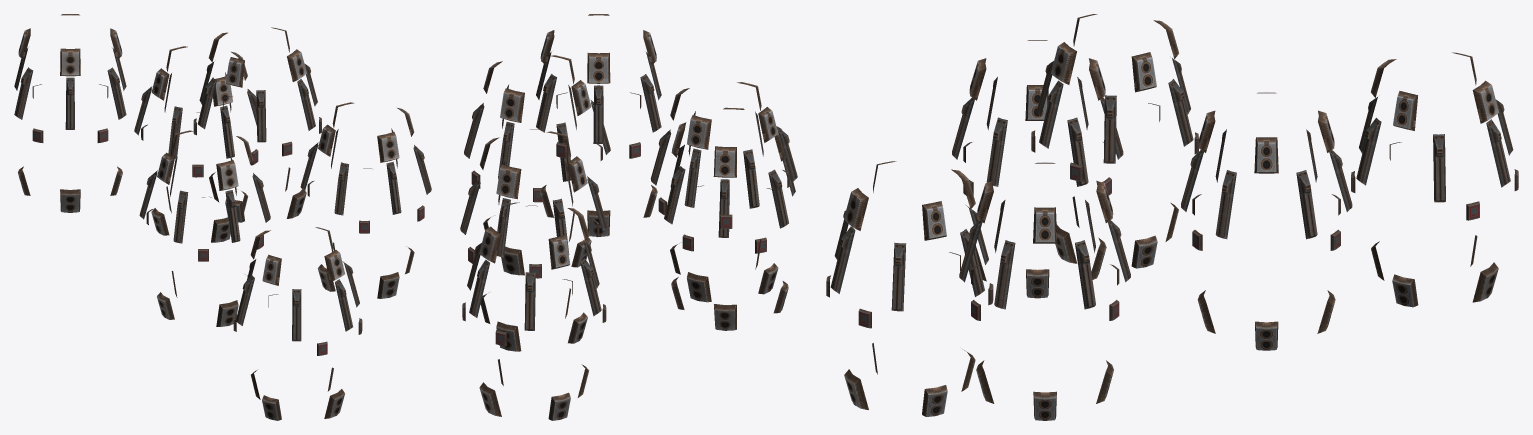
File: prop_static_yao_container_01_03_0.glb
3 views of the same model, side by side, from view 1: azimuth 30°, elevation 25°; view 2: azimuth 150°, elevation 25°; view 3: azimuth 270°, elevation 25° (orthographic). The views are drawn at different scales.
Parts seen in each view (by area): view 1: yao_container_01_03_LOD0; view 2: yao_container_01_03_LOD0; view 3: yao_container_01_03_LOD0.
Boxes of the visible parts, x1,y1,x2,y2 form: yao_container_01_03_LOD0: [14, 14, 431, 420]; yao_container_01_03_LOD0: [460, 14, 797, 420]; yao_container_01_03_LOD0: [826, 14, 1518, 420].
Size of what is drawn, in the model's own units: 4.79 by 5.18 by 8.42.
Materials: 1 (1 with a texture image).
